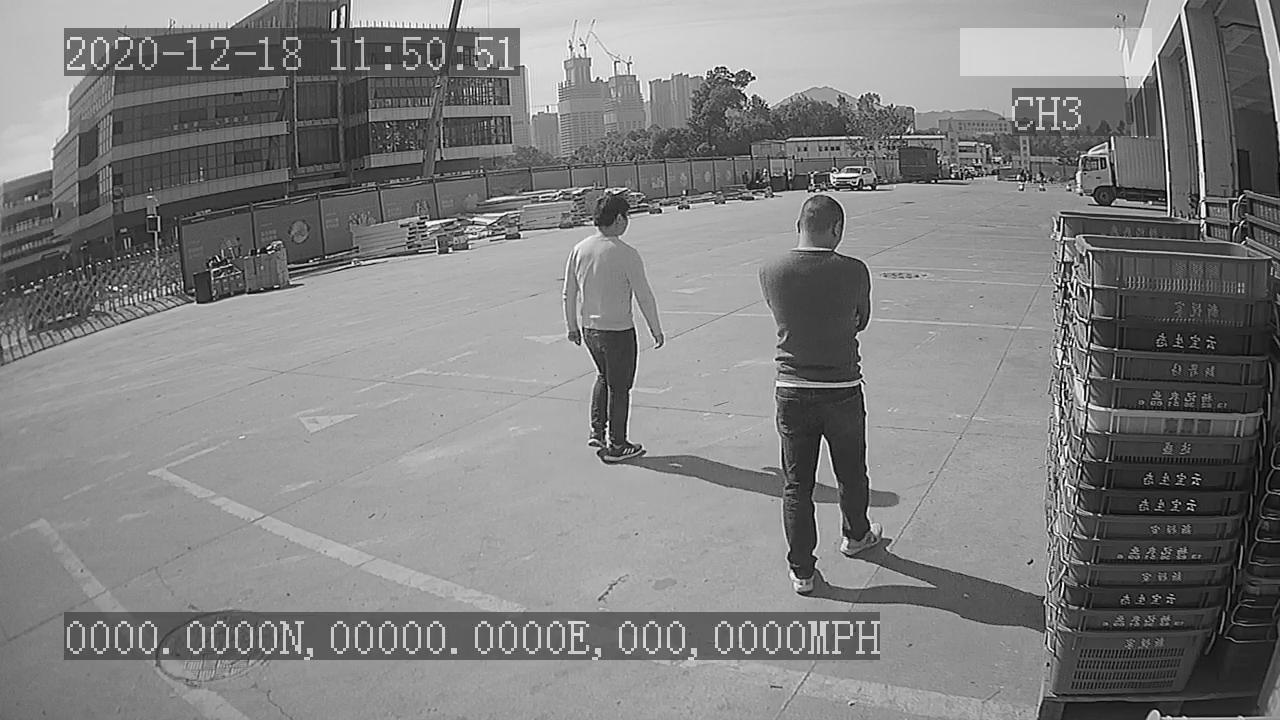person: (756, 194, 888, 601), (561, 192, 670, 467)
